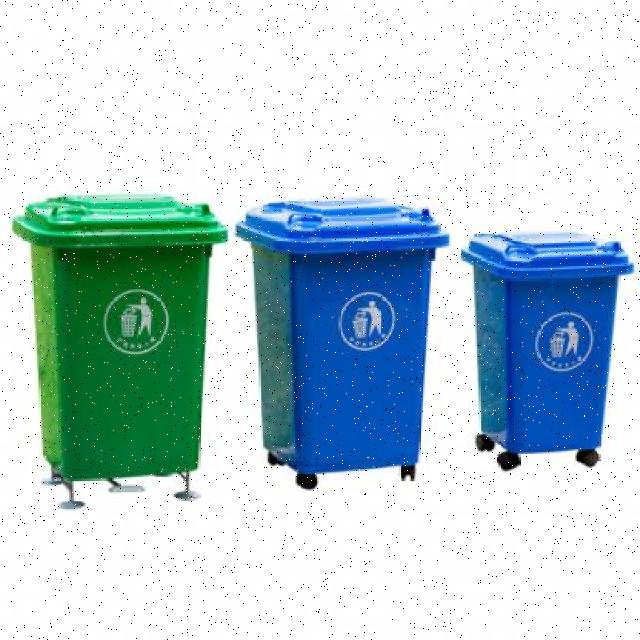garbage container: (0, 186, 232, 528), (233, 188, 456, 508), (453, 218, 639, 496)
